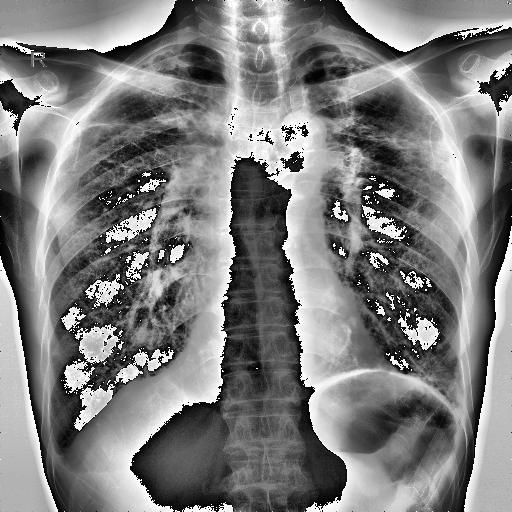10- Pleural effusion: (52, 444, 68, 472)
11- Pleural thickening: (114, 44, 198, 86), (288, 36, 388, 70), (318, 35, 386, 62), (132, 36, 186, 69), (128, 47, 198, 62), (450, 381, 470, 429), (52, 446, 74, 474), (52, 444, 68, 472)
13- Pulmonary fibrosis: (304, 55, 456, 191), (324, 53, 452, 158), (70, 56, 218, 142), (333, 123, 456, 177), (76, 103, 210, 147), (81, 113, 214, 144), (146, 66, 201, 124)
